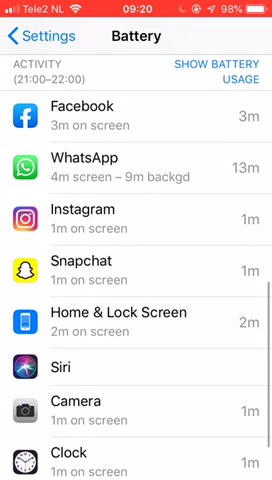activity: (10, 57, 100, 87)
app: (12, 94, 267, 134), (12, 145, 267, 185), (10, 197, 265, 237), (11, 249, 266, 289), (9, 303, 264, 343), (9, 391, 264, 431), (11, 439, 266, 479)
